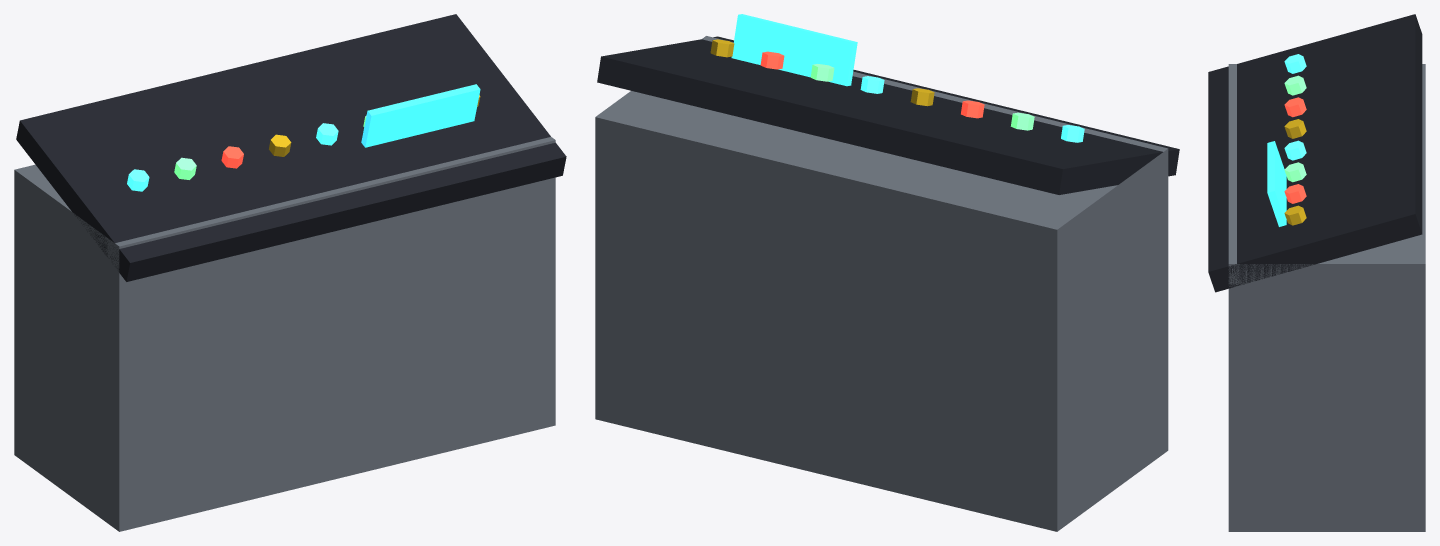
File: control_panel.glb
The picture shows the model from 3 angles, left to right: view 1: azimuth 30°, elevation 25°; view 2: azimuth 150°, elevation 25°; view 3: azimuth 270°, elevation 25°; orthographic projection. The views are drawn at different scales.
Visible parts, largest first — view 1: control_panel; view 2: control_panel; view 3: control_panel.
Part boxes in pixels (x1=…): control_panel: x1=14, y1=14, x2=566, y2=531; control_panel: x1=595, y1=14, x2=1179, y2=531; control_panel: x1=1208, y1=14, x2=1425, y2=531.
Bounding box in the file's own units: 1.2 × 0.8899 × 0.5516.
